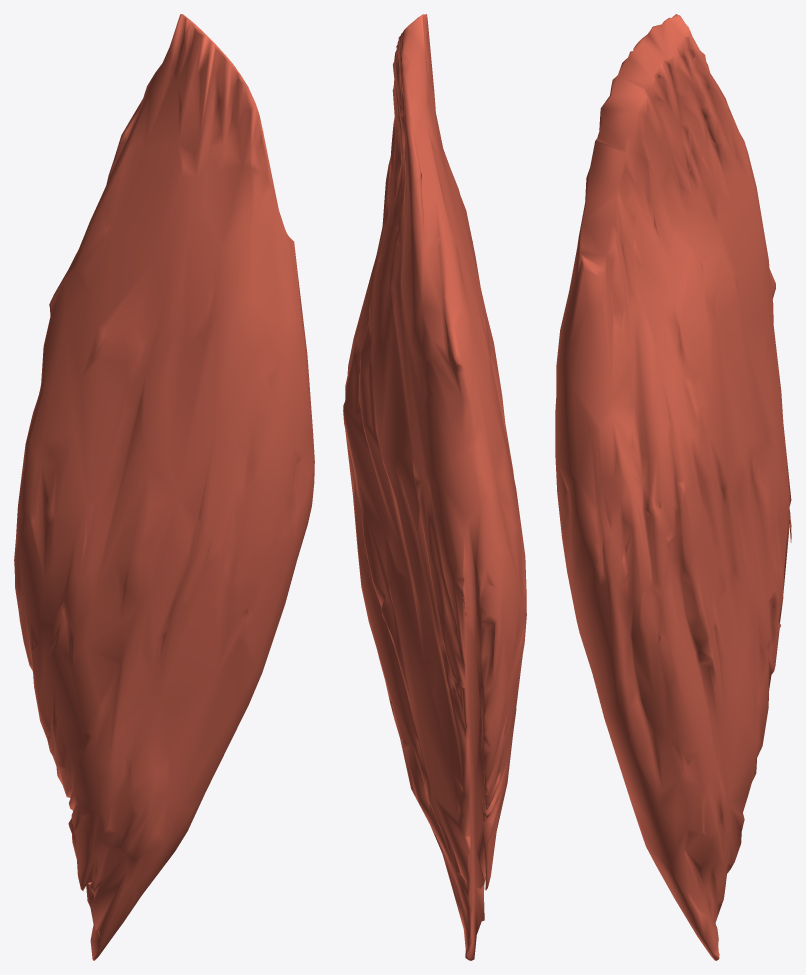
Rendered from tensor-fasciae-latae.glb.
3 renders of one model, left to right at view 1: azimuth 30°, elevation 25°; view 2: azimuth 150°, elevation 25°; view 3: azimuth 270°, elevation 25°, orthographic. The views are drawn at different scales.
Parts seen in each view (by area): view 1: Tensor fasciae latae.r; view 2: Tensor fasciae latae.r; view 3: Tensor fasciae latae.r.
Part boxes in pixels (box(x1,y1,x2,y2)): Tensor fasciae latae.r: box(14, 14, 314, 960); Tensor fasciae latae.r: box(343, 14, 526, 960); Tensor fasciae latae.r: box(555, 14, 791, 960).
Bounding box in the file's own units: 0.0391 × 0.1615 × 0.0352.
